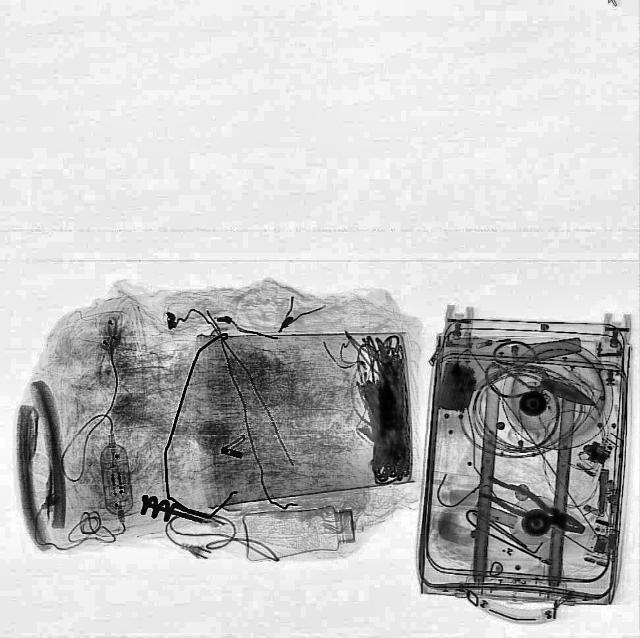Pliers: (474, 470, 590, 544)
Scissors: (474, 332, 606, 428)
